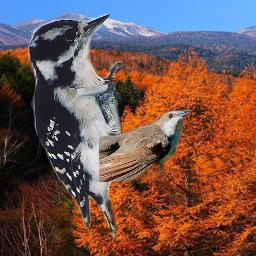Cuckoo: (99, 110, 192, 182)
Woodpecker: (28, 14, 128, 242)
